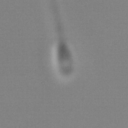normal: (44, 1, 69, 40)
